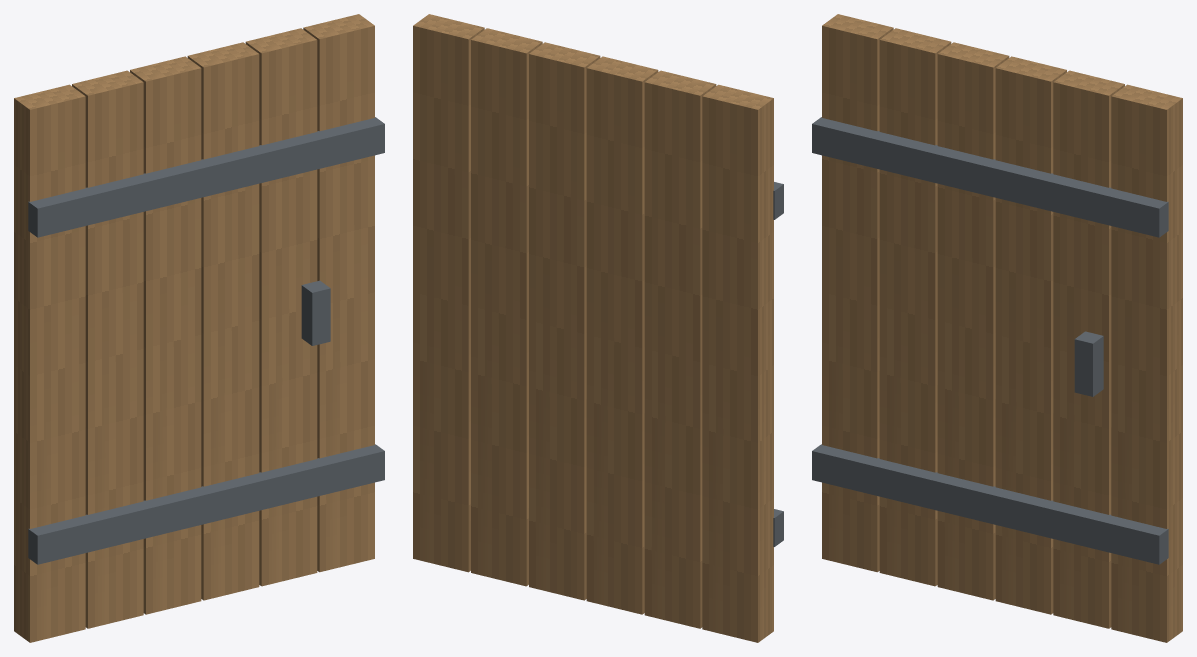
The model's file is dungeon-room-builder-door-timber-405ea717__25805.glb.
The picture shows the model from 3 angles, left to right: view 1: azimuth 30°, elevation 25°; view 2: azimuth 150°, elevation 25°; view 3: azimuth 330°, elevation 25°; orthographic projection.
Parts seen in each view (by area): view 1: hinged-door-leaf (×2); view 2: hinged-door-leaf (×2); view 3: hinged-door-leaf (×2).
Boxes of the visible parts, x1,y1,x2,y2 form: hinged-door-leaf (×2): (14, 14, 384, 642); hinged-door-leaf (×2): (413, 14, 783, 642); hinged-door-leaf (×2): (812, 14, 1182, 642).
Bounding box in the file's own units: 1.5 × 2.2 × 0.23.
Materials: 2 (1 with a texture image).
